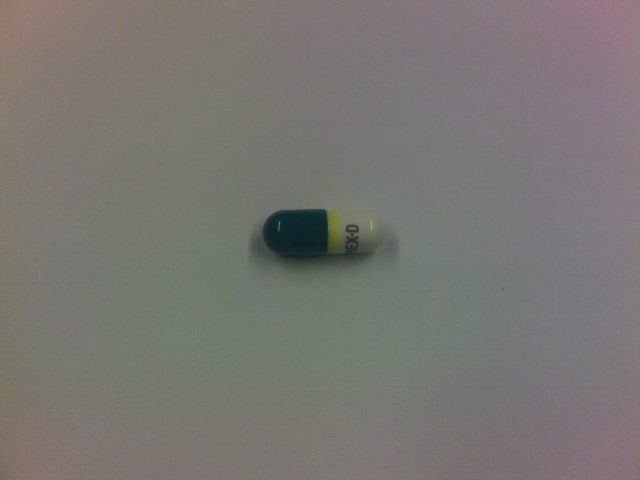capsule: (261, 209, 394, 258)
